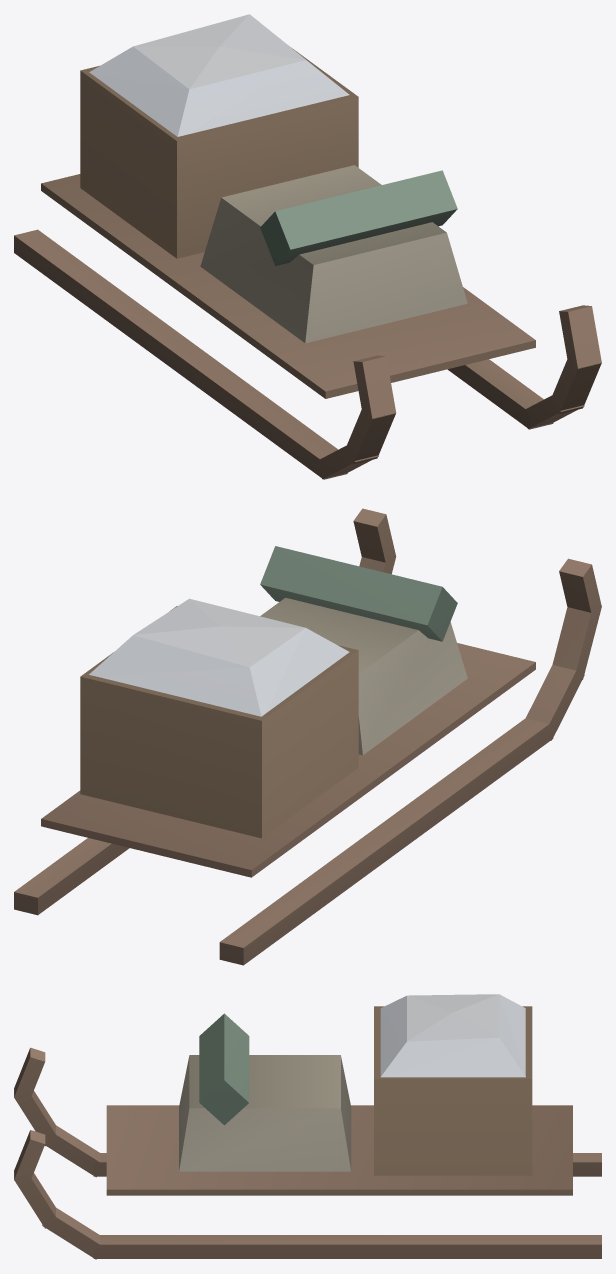
Rendered from sled.lod2.glb.
The picture shows the model from 3 angles, top to bottom: view 1: azimuth 30°, elevation 25°; view 2: azimuth 150°, elevation 25°; view 3: azimuth 270°, elevation 25°; orthographic projection. The views are drawn at different scales.
Bounding box in the file's own units: 0.96 × 0.9819 × 2.6.
